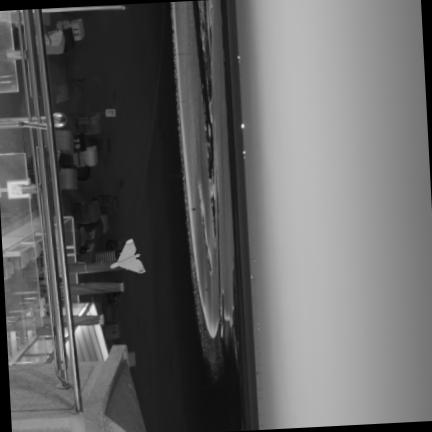Shahed: (111, 240, 144, 273)
